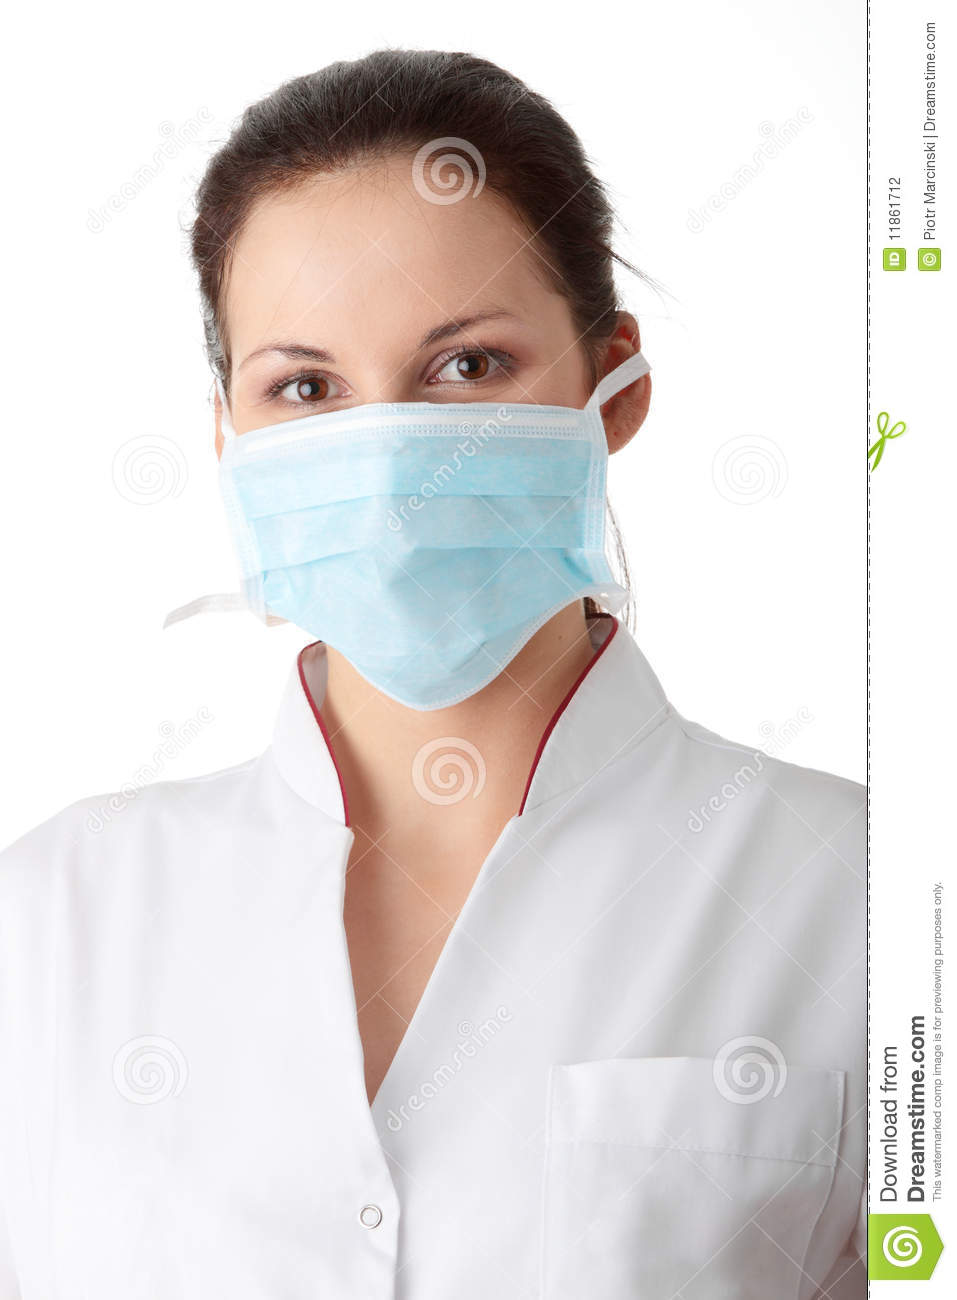mask: (217, 400, 612, 717)
